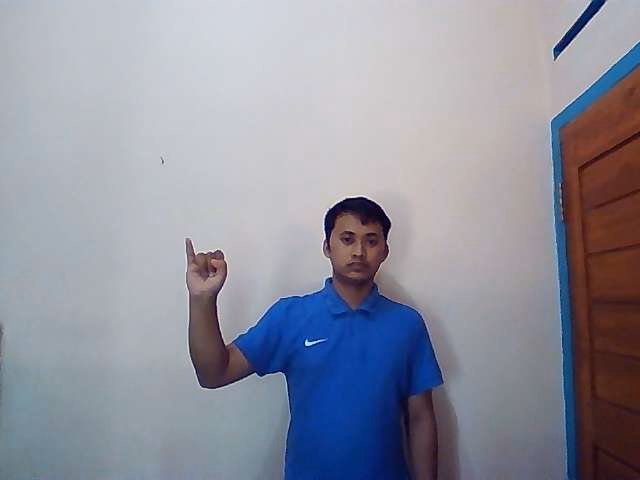I: (185, 236, 227, 295)
